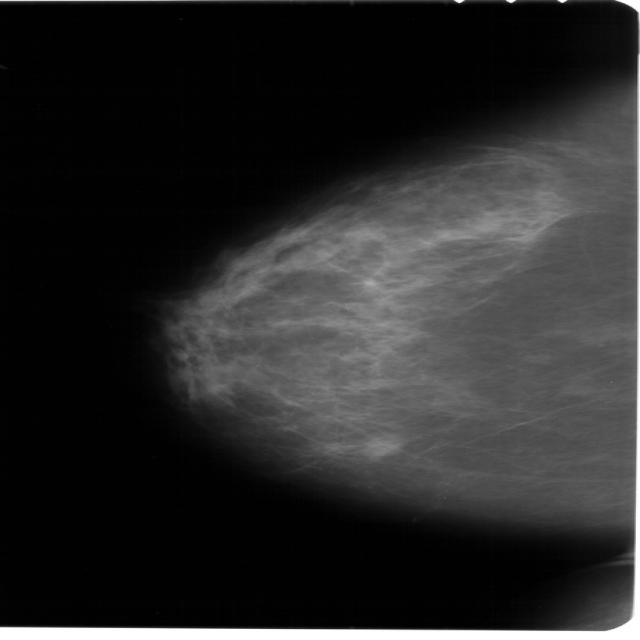tumour: (358, 432, 404, 457)
